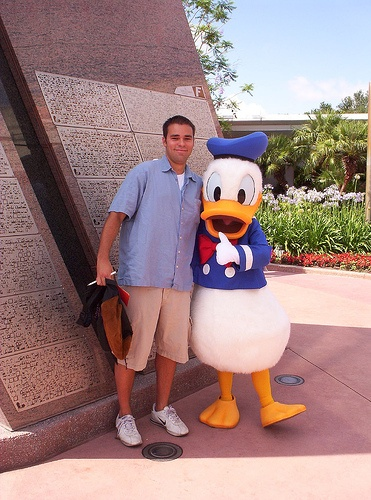head: (162, 116, 196, 164)
person: (94, 111, 201, 447), (187, 131, 301, 426)
